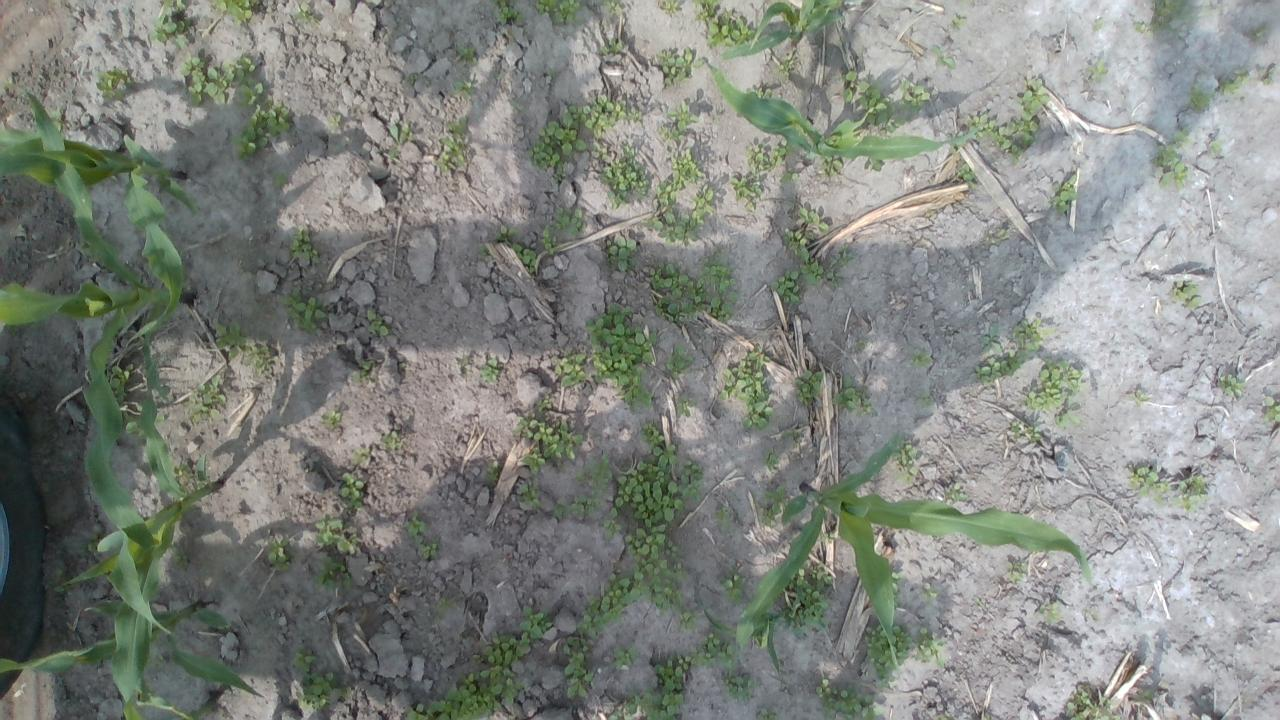Maize: (0, 84, 193, 578), (735, 439, 1096, 666), (66, 354, 215, 720), (0, 599, 271, 720), (699, 50, 984, 162), (0, 125, 198, 217), (701, 581, 809, 677), (718, 0, 852, 60), (130, 677, 227, 720)
Weeds: (584, 300, 657, 411), (624, 520, 690, 616), (613, 445, 685, 525), (719, 344, 774, 432), (182, 50, 264, 109), (470, 629, 530, 706), (840, 69, 906, 137), (524, 114, 588, 182), (778, 563, 836, 637), (576, 572, 638, 637), (649, 260, 710, 326), (232, 99, 292, 162), (428, 671, 502, 720), (598, 145, 651, 211), (1020, 356, 1084, 410), (512, 412, 584, 459), (862, 623, 913, 689), (654, 148, 706, 212), (815, 676, 883, 720), (691, 0, 756, 46), (700, 254, 743, 322), (568, 94, 627, 138), (278, 286, 328, 334), (688, 624, 738, 672), (607, 689, 684, 720), (969, 347, 1025, 388), (562, 635, 596, 702), (295, 672, 349, 713), (992, 116, 1038, 164), (183, 374, 224, 424), (639, 212, 703, 244), (656, 46, 705, 86), (1126, 463, 1172, 505), (152, 0, 192, 48), (1064, 686, 1118, 720), (436, 115, 468, 172), (572, 454, 614, 496), (656, 100, 698, 142), (315, 513, 358, 554), (1150, 142, 1186, 190), (119, 402, 164, 439), (831, 377, 874, 415), (406, 511, 440, 559), (746, 138, 788, 176), (313, 555, 357, 590), (287, 224, 322, 266), (1017, 78, 1051, 121), (1010, 318, 1053, 352), (654, 651, 691, 690), (1148, 0, 1189, 35), (913, 626, 947, 668), (551, 348, 587, 387), (890, 437, 920, 483), (207, 0, 260, 26), (1171, 476, 1209, 512), (897, 77, 931, 117), (604, 234, 638, 274), (531, 0, 581, 27), (758, 486, 789, 529), (96, 67, 134, 102), (212, 320, 245, 360), (730, 176, 766, 212), (1048, 174, 1082, 212), (716, 566, 746, 606), (569, 489, 606, 520), (265, 534, 295, 572), (770, 268, 800, 306), (679, 458, 704, 503), (520, 604, 552, 639), (792, 369, 822, 406), (554, 206, 588, 238), (242, 342, 278, 372), (720, 671, 756, 701), (664, 345, 694, 379), (1170, 279, 1204, 309), (976, 322, 1006, 355), (106, 363, 132, 401), (340, 472, 366, 510), (488, 0, 526, 26), (781, 228, 810, 262), (798, 207, 829, 238), (49, 567, 82, 596), (510, 243, 540, 274), (1218, 67, 1250, 95), (966, 113, 998, 140), (692, 186, 718, 218), (451, 73, 479, 101), (350, 360, 380, 386), (1218, 372, 1248, 398), (640, 421, 666, 450), (611, 643, 638, 670), (1188, 84, 1214, 112), (602, 506, 624, 539), (290, 646, 316, 672), (799, 258, 825, 284), (366, 308, 388, 338), (518, 478, 540, 508), (388, 122, 416, 145), (774, 50, 797, 78), (172, 458, 194, 487), (522, 448, 548, 472), (932, 44, 956, 70), (1006, 558, 1030, 584), (817, 154, 844, 177), (170, 540, 189, 572), (1085, 58, 1110, 82), (1036, 598, 1060, 623), (829, 244, 853, 268), (380, 430, 404, 453), (293, 1, 317, 24), (957, 160, 976, 189), (76, 532, 103, 552), (714, 505, 734, 532), (1054, 411, 1082, 430), (402, 700, 428, 720), (480, 357, 499, 384), (908, 348, 932, 369), (676, 394, 696, 419), (600, 35, 626, 54), (825, 268, 847, 290), (541, 225, 558, 253), (1263, 395, 1280, 423), (493, 224, 518, 243), (985, 228, 1011, 246), (456, 43, 478, 64), (944, 481, 966, 502), (947, 129, 966, 153), (318, 410, 345, 426), (552, 495, 570, 519), (890, 570, 901, 609), (435, 596, 455, 617), (762, 449, 781, 471), (484, 460, 504, 480), (1124, 389, 1148, 405), (48, 108, 64, 132), (678, 610, 696, 631), (272, 168, 289, 190), (1171, 128, 1193, 145), (747, 85, 773, 99), (592, 141, 611, 160), (920, 582, 938, 602), (916, 389, 933, 410), (1205, 138, 1223, 157), (754, 707, 779, 720), (352, 447, 370, 465), (1258, 64, 1274, 84), (627, 105, 645, 122), (865, 156, 884, 172), (1026, 426, 1045, 442), (1134, 20, 1152, 36), (660, 0, 680, 14), (780, 172, 800, 186), (822, 530, 839, 546), (1009, 419, 1023, 438), (1084, 606, 1101, 621), (548, 68, 562, 86), (327, 113, 342, 129), (535, 395, 551, 410), (508, 98, 524, 113), (853, 337, 869, 352), (602, 0, 620, 13), (456, 356, 468, 375), (388, 146, 402, 160), (932, 712, 956, 720), (477, 245, 490, 259), (951, 13, 966, 25), (780, 428, 797, 438), (1252, 26, 1265, 38), (1092, 18, 1104, 30), (3, 74, 15, 86), (408, 72, 418, 86), (974, 596, 984, 608), (1143, 689, 1155, 699)
